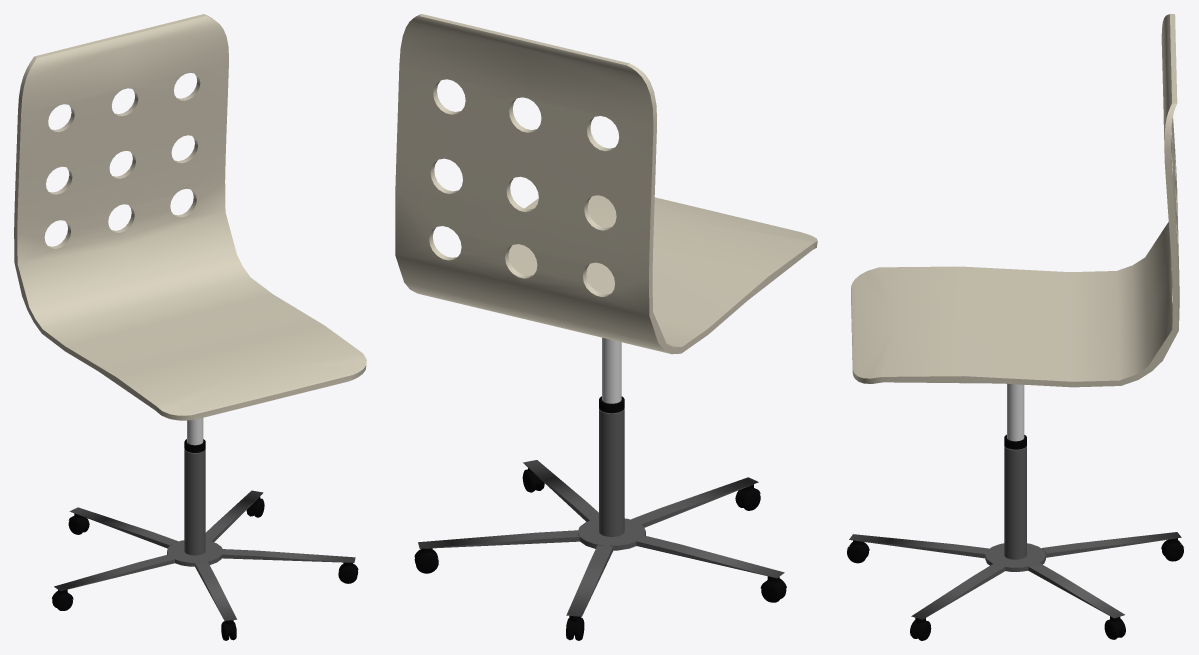
File: IKEA-Jules_Swivel_Chair-Swivel-Chair-3D.FBX
The picture shows the model from 3 angles, left to right: view 1: azimuth 30°, elevation 25°; view 2: azimuth 150°, elevation 25°; view 3: azimuth 270°, elevation 25°; orthographic projection. The views are drawn at different scales.
Parts seen in each view (by area): view 1: Line01; view 2: Line01; view 3: Line01.
Part boxes in pixels (x1=…): Line01: x1=14, y1=14, x2=366, y2=640; Line01: x1=395, y1=14, x2=817, y2=640; Line01: x1=847, y1=14, x2=1183, y2=640.
Bounding box in the file's own units: 0.6122 × 1.1 × 0.6417.
